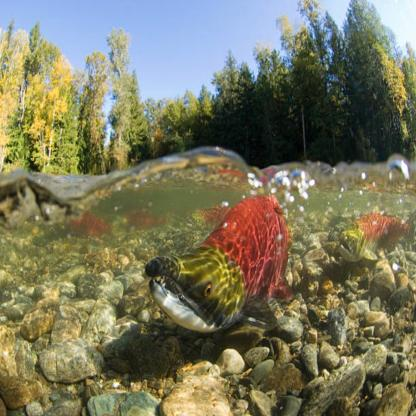sockeye: (152, 193, 300, 331), (335, 207, 416, 263)
